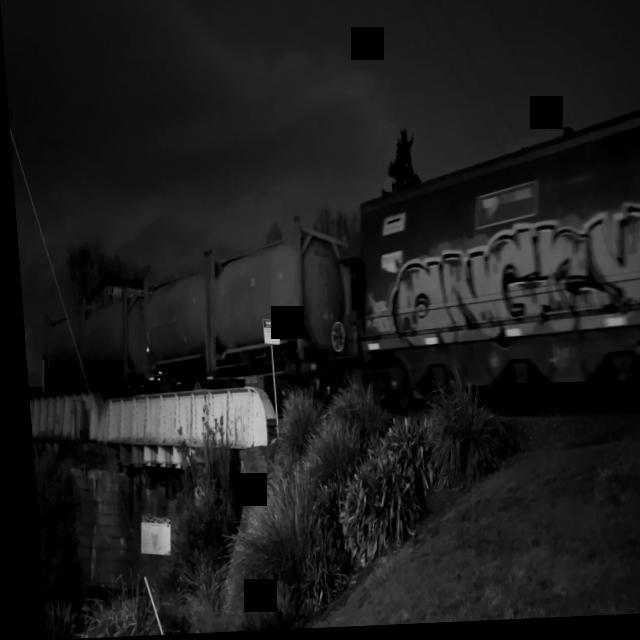hopper: (335, 87, 640, 433)
tank: (201, 220, 350, 372), (132, 258, 210, 384), (72, 291, 143, 392), (30, 301, 85, 395)
